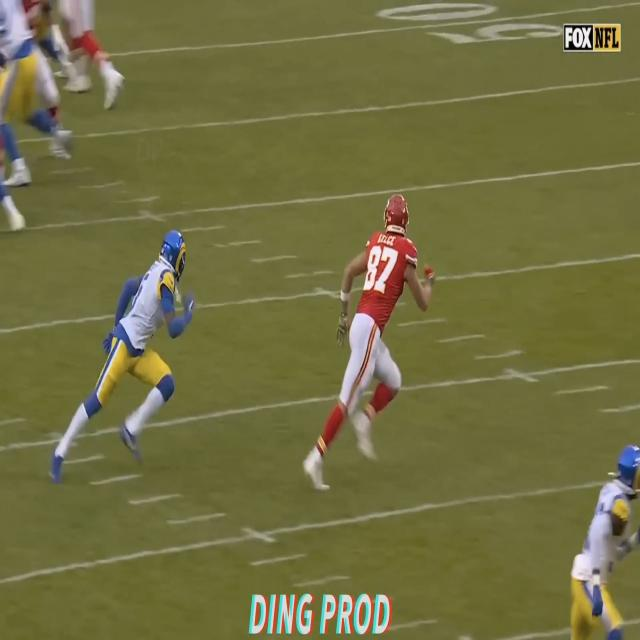players: (35, 214, 204, 486), (291, 184, 434, 499), (563, 438, 640, 637), (51, 0, 128, 113), (590, 453, 640, 606)
